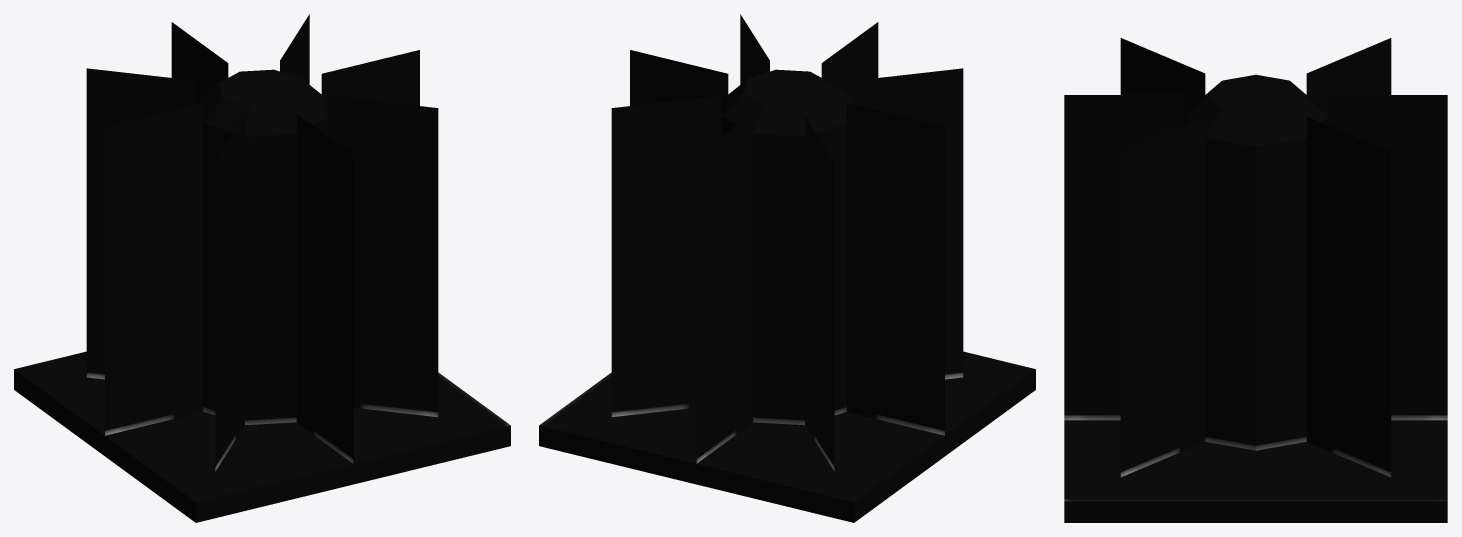
Rendered from rtg_mini_old.obj.
The picture shows the model from 3 angles, left to right: view 1: azimuth 30°, elevation 25°; view 2: azimuth 150°, elevation 25°; view 3: azimuth 270°, elevation 25°; orthographic projection. The views are drawn at different scales.
Visible parts, largest first — view 1: rtg_mini; view 2: rtg_mini; view 3: rtg_mini.
Part boxes in pixels (x1,y1,x2,y2): rtg_mini: (14,14,510,522); rtg_mini: (539,14,1035,522); rtg_mini: (1064,38,1447,522).
Size of the model in its own units: 1 by 1 by 1.
